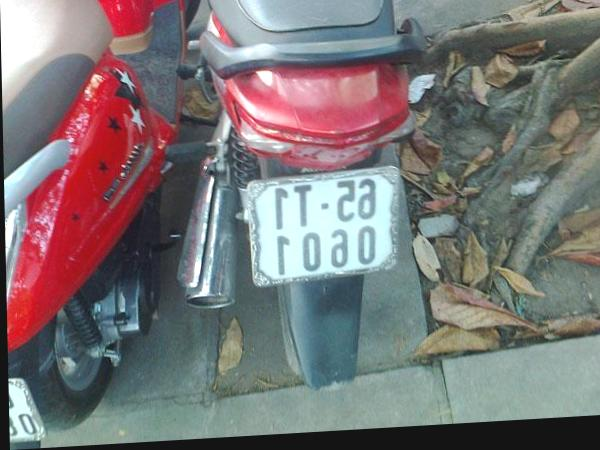License_Plate: (243, 162, 398, 285)
